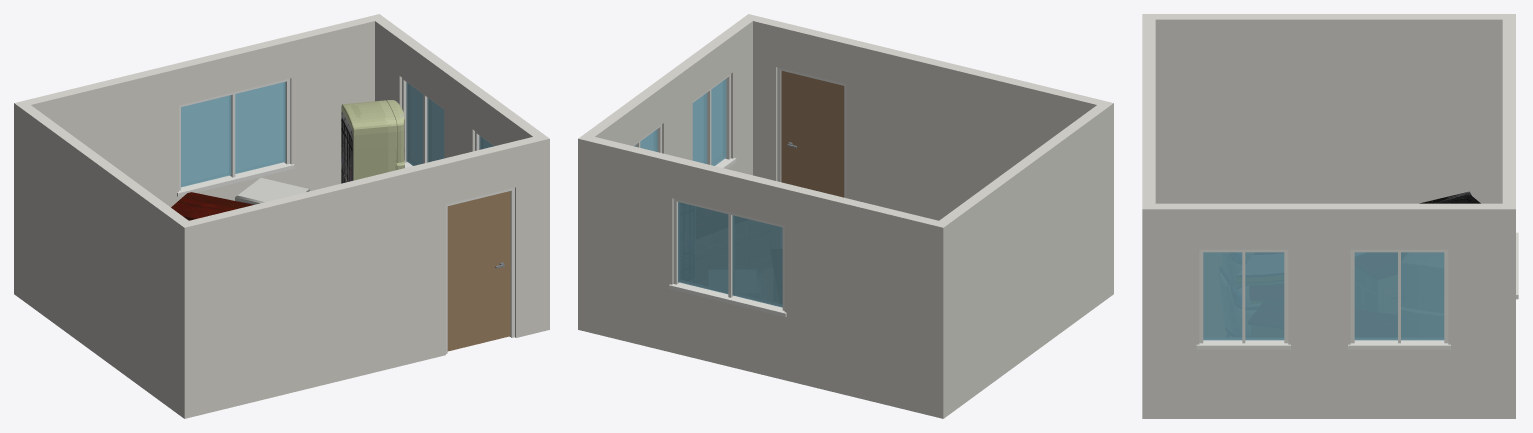
File: layoutvlm.glb
3 renders of one model, left to right at view 1: azimuth 30°, elevation 25°; view 2: azimuth 150°, elevation 25°; view 3: azimuth 270°, elevation 25°, orthographic. The views are drawn at different scales.
Parts seen in each view (by area): view 1: wall|scenesmith_107__R00|0, wall|scenesmith_107__R00|2, wall|scenesmith_107__R00|1, wall|scenesmith_107__R00|0 Door 0 | wood leaf, wall|scenesmith_107__R00|3, wall|scenesmith_107__R00|1 Window 0 | glazing, scenesmith_107__R00_fridge-0, wall|scenesmith_107__R00|3 Window 0 | glazing, wall|scenesmith_107__R00|1 Window 0 | jamb, scenesmith_107__R00_countertop-0, wall|scenesmith_107__R00|0 Door 0 | jamb, furniture_group (+1 smaller); view 2: wall|scenesmith_107__R00|1, wall|scenesmith_107__R00|0, wall|scenesmith_107__R00|2, wall|scenesmith_107__R00|3, wall|scenesmith_107__R00|1 Window 0 | glazing, wall|scenesmith_107__R00|0 Door 0 | wood leaf, wall|scenesmith_107__R00|3 Window 0 | glazing, wall|scenesmith_107__R00|1 Window 0 | jamb, wall|scenesmith_107__R00|3 Window 0 | jamb, wall|scenesmith_107__R00|0 Door 0 | jamb; view 3: wall|scenesmith_107__R00|2, wall|scenesmith_107__R00|3, wall|scenesmith_107__R00|3 Window 0 | glazing, wall|scenesmith_107__R00|0, wall|scenesmith_107__R00|1, wall|scenesmith_107__R00|3 Window 0 | jamb, scenesmith_107__R00_stove-0.
Boxes of the visible parts, bbox=[...] form: wall|scenesmith_107__R00|0: bbox=[179, 137, 549, 418]; wall|scenesmith_107__R00|2: bbox=[14, 100, 188, 418]; wall|scenesmith_107__R00|1: bbox=[14, 16, 374, 298]; wall|scenesmith_107__R00|0 Door 0 | wood leaf: bbox=[447, 191, 510, 351]; wall|scenesmith_107__R00|3: bbox=[369, 14, 549, 158]; wall|scenesmith_107__R00|1 Window 0 | glazing: bbox=[181, 82, 285, 187]; scenesmith_107__R00_fridge-0: bbox=[341, 100, 404, 183]; wall|scenesmith_107__R00|3 Window 0 | glazing: bbox=[406, 82, 493, 165]; wall|scenesmith_107__R00|1 Window 0 | jamb: bbox=[177, 78, 294, 196]; scenesmith_107__R00_countertop-0: bbox=[171, 192, 253, 220]; wall|scenesmith_107__R00|0 Door 0 | jamb: bbox=[446, 187, 514, 353]; furniture_group: bbox=[235, 177, 309, 204]; wall|scenesmith_107__R00|1: bbox=[578, 137, 949, 418]; wall|scenesmith_107__R00|0: bbox=[753, 16, 1113, 220]; wall|scenesmith_107__R00|2: bbox=[933, 103, 1113, 418]; wall|scenesmith_107__R00|3: bbox=[578, 14, 758, 332]; wall|scenesmith_107__R00|1 Window 0 | glazing: bbox=[678, 202, 782, 307]; wall|scenesmith_107__R00|0 Door 0 | wood leaf: bbox=[781, 70, 844, 197]; wall|scenesmith_107__R00|3 Window 0 | glazing: bbox=[634, 78, 726, 165]; wall|scenesmith_107__R00|1 Window 0 | jamb: bbox=[669, 199, 786, 317]; wall|scenesmith_107__R00|3 Window 0 | jamb: bbox=[633, 74, 736, 168]; wall|scenesmith_107__R00|0 Door 0 | jamb: bbox=[777, 67, 846, 197]; wall|scenesmith_107__R00|2: bbox=[1155, 14, 1515, 203]; wall|scenesmith_107__R00|3: bbox=[1142, 203, 1515, 418]; wall|scenesmith_107__R00|3 Window 0 | glazing: bbox=[1203, 252, 1444, 340]; wall|scenesmith_107__R00|0: bbox=[1142, 14, 1155, 418]; wall|scenesmith_107__R00|1: bbox=[1502, 14, 1515, 418]; wall|scenesmith_107__R00|3 Window 0 | jamb: bbox=[1196, 249, 1450, 349]; scenesmith_107__R00_stove-0: bbox=[1419, 191, 1480, 203].
Bounding box in the file's own units: 5.23 × 2.61 × 4.23.
Materials: 16 (9 with a texture image).
